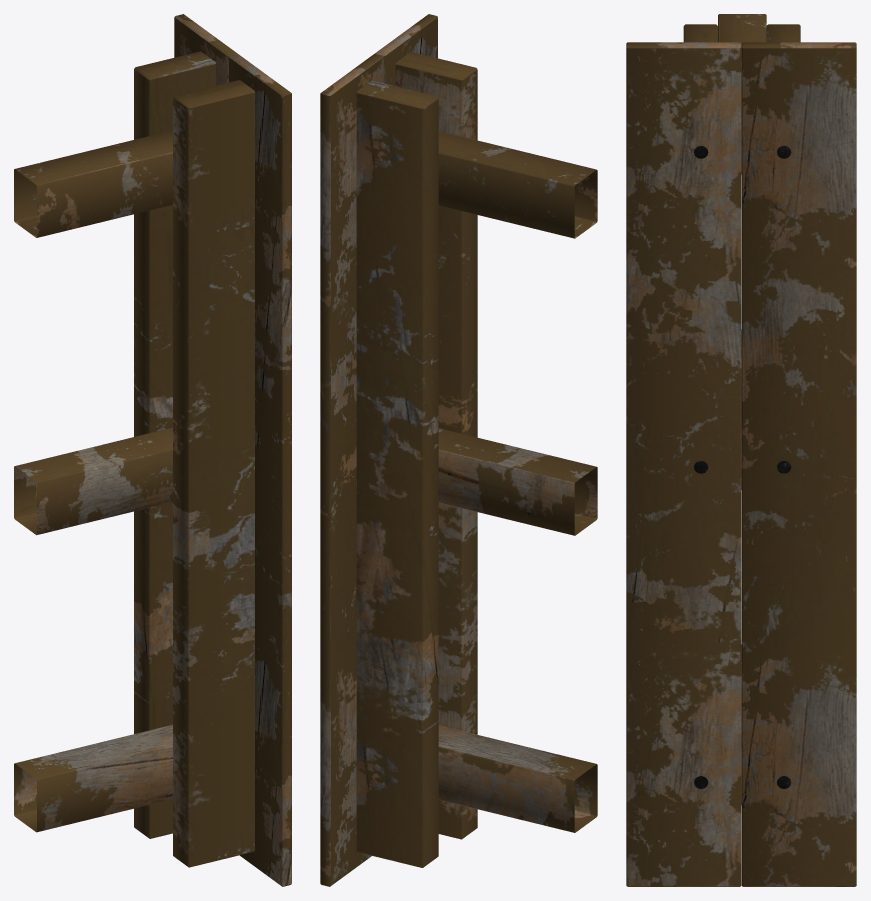
File: cP_Bench12_v05.dae
3 views of the same model, side by side, from view 1: azimuth 30°, elevation 25°; view 2: azimuth 150°, elevation 25°; view 3: azimuth 270°, elevation 25° (orthographic). The views are drawn at different scales.
Parts seen in each view (by area): view 1: cP_Bench12_v05.001; view 2: cP_Bench12_v05.001; view 3: cP_Bench12_v05.001.
Boxes of the visible parts, left/top/right/bottom form: cP_Bench12_v05.001: left=14, top=14, right=291, bottom=886; cP_Bench12_v05.001: left=320, top=14, right=597, bottom=886; cP_Bench12_v05.001: left=626, top=14, right=856, bottom=886.
Size of the model in its own units: 0.5638 by 0.4962 by 2.
